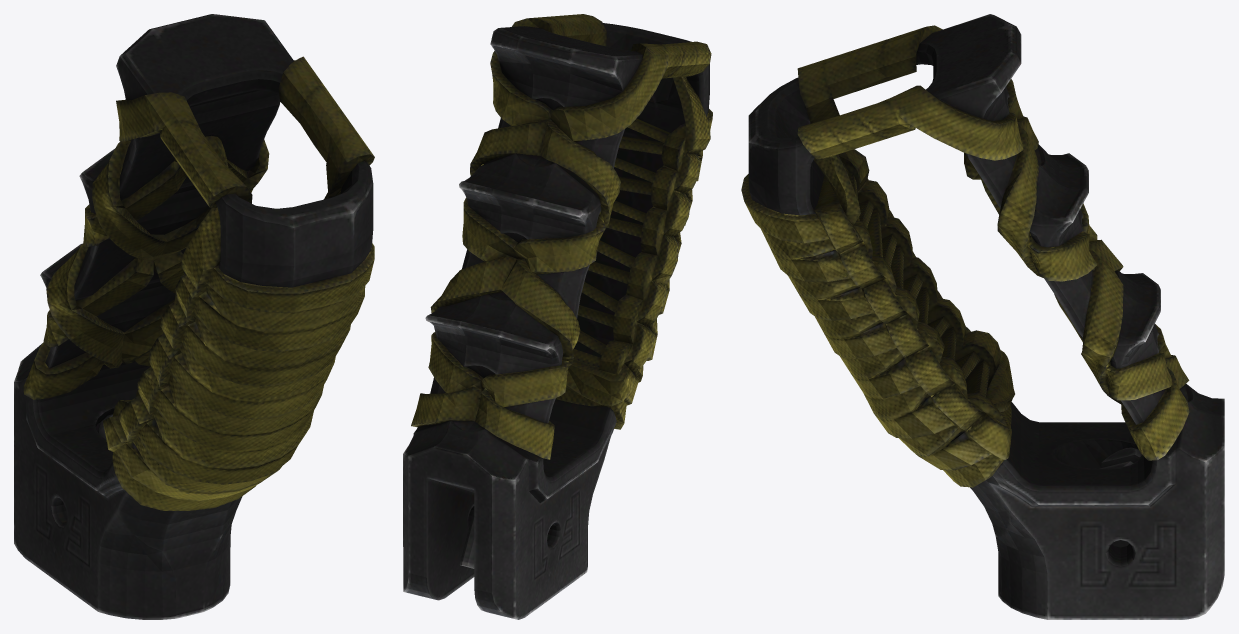
The picture shows the model from 3 angles, left to right: view 1: azimuth 30°, elevation 25°; view 2: azimuth 150°, elevation 25°; view 3: azimuth 270°, elevation 25°; orthographic projection. The views are drawn at different scales.
Parts seen in each view (by area): view 1: TW_6113cc78d3a39d50044c065a_PZ_Import; view 2: TW_6113cc78d3a39d50044c065a_PZ_Import; view 3: TW_6113cc78d3a39d50044c065a_PZ_Import.
Part boxes in pixels (box(x1,y1,x2,y2)): TW_6113cc78d3a39d50044c065a_PZ_Import: box(14, 14, 374, 619); TW_6113cc78d3a39d50044c065a_PZ_Import: box(403, 14, 712, 619); TW_6113cc78d3a39d50044c065a_PZ_Import: box(741, 14, 1224, 619).
Size of the model in its own units: 0.0176 by 0.0451 by 0.0568.
1 material, 1 textured.
